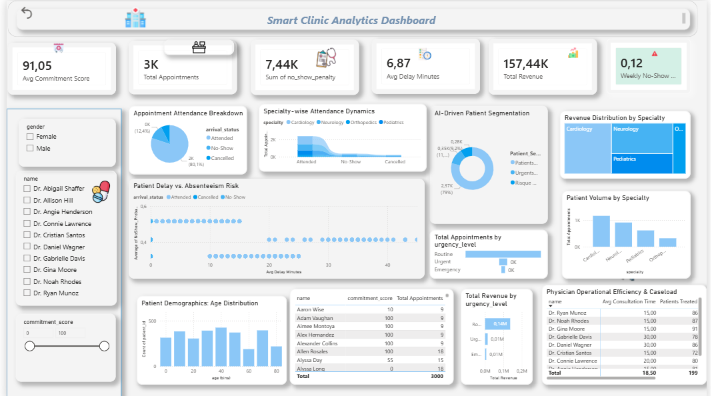

This screenshot's page, from the dashboard's own definition file:
{"tool":"powerbi","page":{"name":"Page 1","canvas":[1750,1000],"ordinal":0},"visuals":[{"type":"shape","box":[2.5,0,1725,90],"z":0,"group":"g1"},{"type":"textbox","box":[25.5,20,1683.2,52.5],"z":0,"group":"g2"},{"type":"cardVisual","fields":{"Data":["public appointments.Total Appointments"]},"box":[305.2,100,270.5,134],"z":0},{"type":"group","id":"g1","title":"Group 2","box":[2.5,0,1725,90],"z":1000},{"type":"group","id":"g2","title":"Group 1","box":[25.5,10,1683.2,62],"z":1000,"group":"g1"},{"type":"image","box":[189.6,14,263.5,52],"z":1000,"group":"g2"},{"type":"actionButton","box":[30.7,10,130.7,40],"z":2000,"group":"g2"},{"type":"shape","box":[0,270,287.5,730],"z":2000},{"type":"slicer","fields":{"Values":["public patients.gender"]},"box":[30,295,242.5,120],"z":3000},{"type":"slicer","fields":{"Values":["public doctors.name"]},"box":[22.5,425,252.5,337.5],"z":4000},{"type":"image","box":[1450,642,200,58],"z":5000},{"type":"cardVisual","fields":{"Data":["Sum(public billing.no_show_penalty)"]},"box":[610.5,98,270.5,138],"z":6000},{"type":"cardVisual","fields":{"Data":["public billing.Avg Commitment Score"]},"box":[2,104,270.5,130],"z":7000},{"type":"cardVisual","fields":{"Data":["public appointments.Total Revenue"]},"box":[1206,94,270.5,140],"z":8000},{"type":"cardVisual","fields":{"Data":["public appointments.Avg Delay Minutes"]},"box":[911.5,96,270.5,138],"z":9000},{"type":"image","box":[1382.5,117.5,67.5,25],"z":10000},{"type":"image","box":[938,118,216,32],"z":11000},{"type":"ribbonChart","title":"Specialty-wise Attendance Dynamics","fields":{"Category":["public appointments.arrival_status"],"Y":["public appointments.Total Appointments"],"Series":["public doctors.specialty"]},"box":[629.2,256.9,420,170],"z":11000,"group":"g3"},{"type":"image","box":[392,98,176,38],"z":12000},{"type":"cardVisual","fields":{"Data":["public appointments.Weekly No-Show Rate"]},"box":[1500,96,210,138],"z":13000},{"type":"pieChart","title":"Appointment Attendance Breakdown","fields":{"Category":["public appointments.arrival_status"],"Y":["public appointments.Total Appointments"]},"box":[306,262,296,172],"z":14000},{"type":"columnChart","title":"Patient Demographics: Age Distribution","fields":{"Category":["public patients.age (bins)"],"Y":["CountNonNull(public appointments.patient_id)"]},"box":[325,737.5,375,222.5],"z":15000},{"type":"image","box":[908.5,506.2,54.6,26.9],"z":16000},{"type":"donutChart","title":"AI-Driven Patient Segmentation","fields":{"Category":["public appointments.Patient_Segment_AI"],"Y":["CountNonNull(public appointments.appointment_id)"]},"box":[1057.5,262.5,295,295],"z":17000},{"type":"group","id":"g3","title":"Group 3","box":[629.2,256.9,420,170],"z":18000},{"type":"tableEx","fields":{"Values":["public patients.name","public patients.commitment_score","public appointments.Total Appointments"]},"box":[707.5,720,410,240],"z":19000},{"type":"slicer","fields":{"Values":["public patients.commitment_score"]},"box":[22.5,782.5,250,170],"z":20000},{"type":"treemap","title":"Revenue Distribution by Specialty","fields":{"Group":["public doctors.specialty"],"Values":["public appointments.Total Revenue"]},"box":[1382.5,275,327.5,170],"z":21000},{"type":"scatterChart","title":"Patient Delay vs. Absenteeism Risk","fields":{"X":["public appointments.Avg Delay Minutes"],"Y":["Avg(public appointments.NoShow_Probability)"],"Category":["public appointments.appointment_id"],"Series":["public appointments.arrival_status"]},"box":[306,446,740,250],"z":22000},{"type":"columnChart","title":"Patient Volume by Specialty","fields":{"Category":["public doctors.specialty"],"Y":["public appointments.Total Appointments"]},"box":[1387.5,475,322.5,220],"z":23000},{"type":"funnel","fields":{"Category":["public appointments.urgency_level"],"Y":["public appointments.Total Appointments"]},"box":[1057.5,572.5,295,122.5],"z":24000},{"type":"barChart","fields":{"Category":["public appointments.urgency_level"],"Y":["public appointments.Total Revenue"]},"box":[1135,720,180,240],"z":25000},{"type":"pivotTable","title":"Physician Operational Efficiency & Caseload","fields":{"Rows":["public doctors.name"],"Values":["public doctors.Avg Consultation Time","public appointments.Patients Treated","public appointments.Total Revenue"]},"box":[1337.5,710,412.5,250],"z":26000},{"type":"image","box":[730,115,137.5,55],"z":27000},{"type":"image","box":[45,105,170,25],"z":28000},{"type":"image","box":[1490,122.5,260,20],"z":29000},{"type":"image","box":[147.5,450,177.5,55],"z":30000}]}

Visuals, with their boxes in screenshot pixels (x1, y1, x2, y2), scaled from the page's 1750x1000 canvas onto the 711x397 screenshot:
shape: [x1=1, y1=0, x2=702, y2=36]
textbox: [x1=10, y1=8, x2=694, y2=29]
cardVisual - public appointments.Total Appointments: [x1=124, y1=40, x2=234, y2=93]
"Group 2" group: [x1=1, y1=0, x2=702, y2=36]
"Group 1" group: [x1=10, y1=4, x2=694, y2=29]
image: [x1=77, y1=6, x2=184, y2=26]
actionButton: [x1=12, y1=4, x2=66, y2=20]
shape: [x1=0, y1=107, x2=117, y2=396]
slicer - public patients.gender: [x1=12, y1=117, x2=111, y2=165]
slicer - public doctors.name: [x1=9, y1=169, x2=112, y2=303]
image: [x1=589, y1=255, x2=670, y2=278]
cardVisual - Sum(public billing.no_show_penalty): [x1=248, y1=39, x2=358, y2=94]
cardVisual - public billing.Avg Commitment Score: [x1=1, y1=41, x2=111, y2=93]
cardVisual - public appointments.Total Revenue: [x1=490, y1=37, x2=600, y2=93]
cardVisual - public appointments.Avg Delay Minutes: [x1=370, y1=38, x2=480, y2=93]
image: [x1=562, y1=47, x2=589, y2=57]
image: [x1=381, y1=47, x2=469, y2=60]
"Specialty-wise Attendance Dynamics" ribbonChart: [x1=256, y1=102, x2=426, y2=169]
image: [x1=159, y1=39, x2=231, y2=54]
cardVisual - public appointments.Weekly No-Show Rate: [x1=609, y1=38, x2=695, y2=93]
"Appointment Attendance Breakdown" pieChart: [x1=124, y1=104, x2=245, y2=172]
"Patient Demographics: Age Distribution" columnChart: [x1=132, y1=293, x2=284, y2=381]
image: [x1=369, y1=201, x2=391, y2=212]
"AI-Driven Patient Segmentation" donutChart: [x1=430, y1=104, x2=550, y2=221]
"Group 3" group: [x1=256, y1=102, x2=426, y2=169]
tableEx - public patients.name x public patients.commitment_score: [x1=287, y1=286, x2=454, y2=381]
slicer - public patients.commitment_score: [x1=9, y1=311, x2=111, y2=378]
"Revenue Distribution by Specialty" treemap: [x1=562, y1=109, x2=695, y2=177]
"Patient Delay vs. Absenteeism Risk" scatterChart: [x1=124, y1=177, x2=425, y2=276]
"Patient Volume by Specialty" columnChart: [x1=564, y1=189, x2=695, y2=276]
funnel - public appointments.urgency_level x public appointments.Total Appointments: [x1=430, y1=227, x2=550, y2=276]
barChart - public appointments.urgency_level x public appointments.Total Revenue: [x1=461, y1=286, x2=534, y2=381]
"Physician Operational Efficiency & Caseload" pivotTable: [x1=543, y1=282, x2=710, y2=381]
image: [x1=297, y1=46, x2=352, y2=67]
image: [x1=18, y1=42, x2=87, y2=52]
image: [x1=605, y1=49, x2=710, y2=57]
image: [x1=60, y1=179, x2=132, y2=200]
